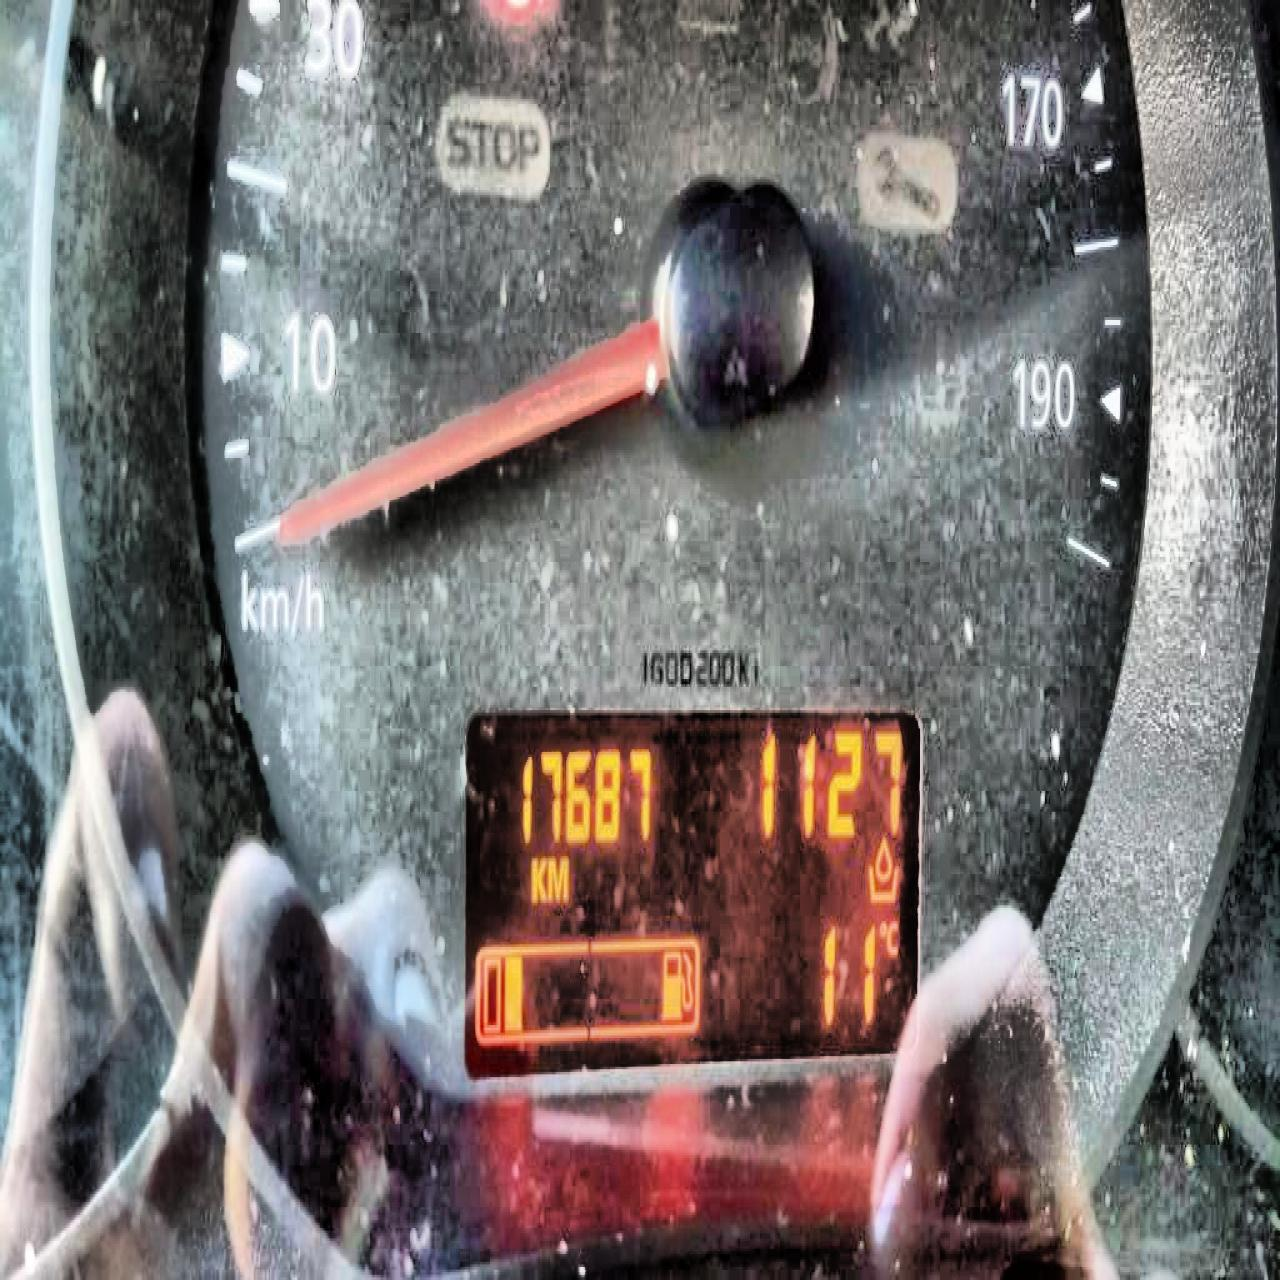1: (816, 913, 839, 1033), (758, 721, 782, 840), (799, 721, 821, 840), (517, 736, 535, 846), (859, 918, 874, 1028)
2: (826, 721, 864, 840)
6: (565, 741, 593, 843)
7: (872, 726, 906, 836), (627, 736, 656, 840), (538, 742, 564, 840)
8: (593, 741, 622, 843)
X: (547, 851, 567, 905), (529, 851, 547, 905), (885, 908, 900, 960)
odometer: (457, 697, 924, 1084)
